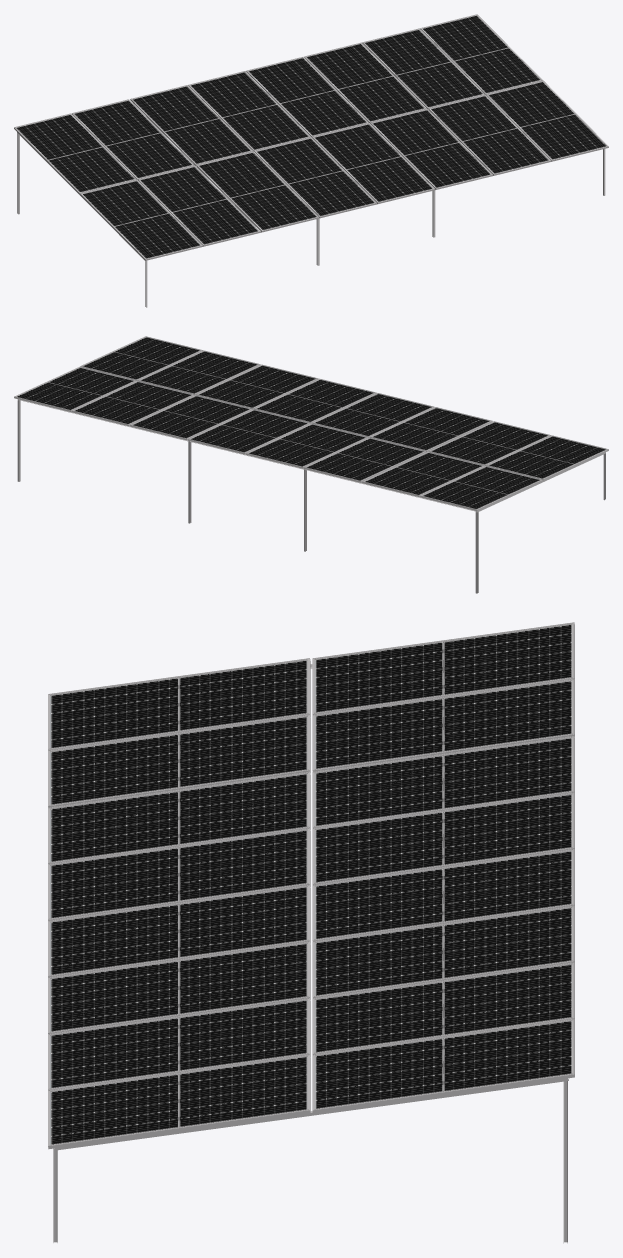
3 views of the same model, one above another, from view 1: azimuth 30°, elevation 25°; view 2: azimuth 150°, elevation 25°; view 3: azimuth 270°, elevation 25° (orthographic). The views are drawn at different scales.
Visible parts, largest first — view 1: 8KW SOLARPANEL; view 2: 8KW SOLARPANEL; view 3: 8KW SOLARPANEL.
Boxes of the visible parts, <box> form: 8KW SOLARPANEL: <box>14,14,608,307</box>; 8KW SOLARPANEL: <box>14,336,608,593</box>; 8KW SOLARPANEL: <box>48,622,574,1243</box>.
Size of the model in its own units: 9.2 by 1.63 by 4.53.
1 material, 1 textured.
